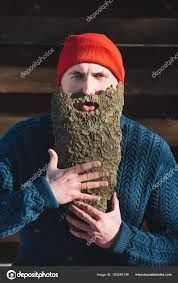no-mask: (48, 36, 142, 138)
